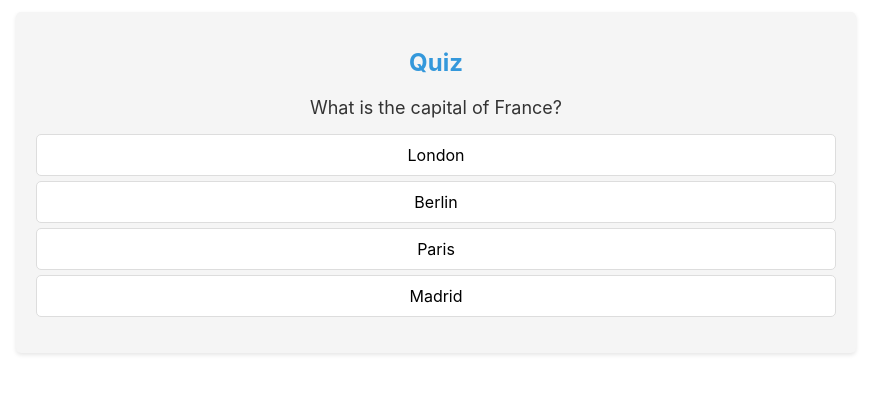
Test case: App › For first Question › when_user_chooses_the_option_correctly
The image size is (873, 419).
Answer the questions
What coordinates should you click on to do the following:
click the list item "Paris"
I would click on:
 (436, 249)
Its box is [36, 228, 836, 270].
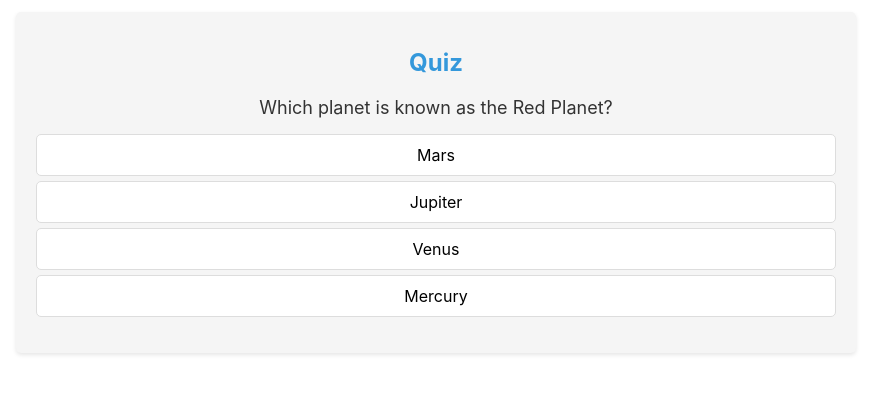
What coordinates should you click on to do the following:
click the list item "Mars"
I would click on:
 (436, 155)
Its box is [36, 134, 836, 176].
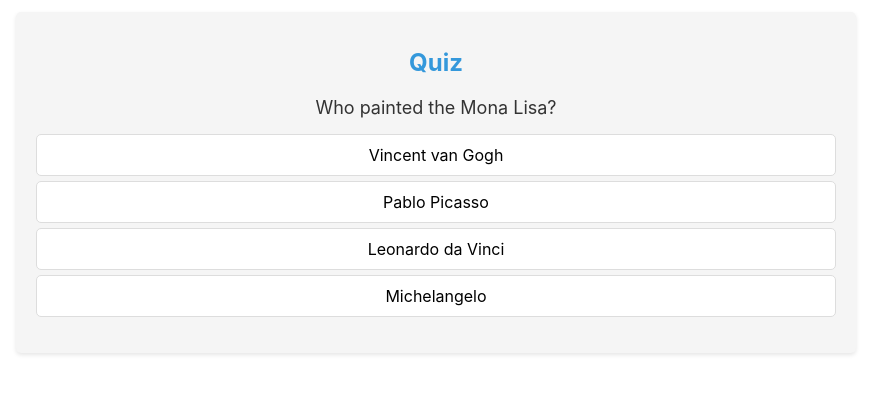
What coordinates should you click on to do the following:
click the list item "Leonardo da Vinci"
I would click on:
 (436, 249)
Its box is [36, 228, 836, 270].
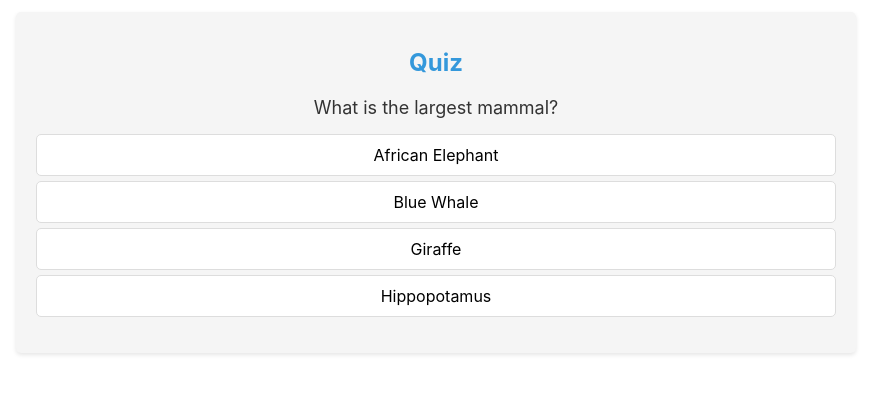
What coordinates should you click on to do the following:
click the list item "Blue Whale"
I would click on:
 (436, 202)
Its box is [36, 181, 836, 223].
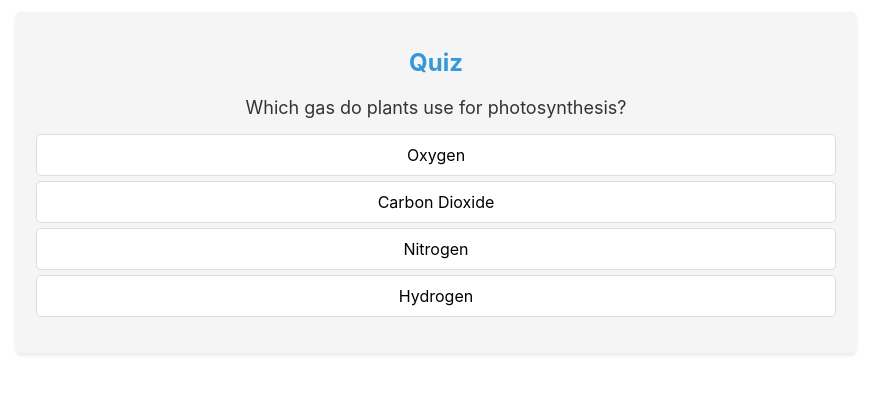
What coordinates should you click on to do the following:
click the list item "Carbon Dioxide"
I would click on:
 (436, 202)
Its box is [36, 181, 836, 223].
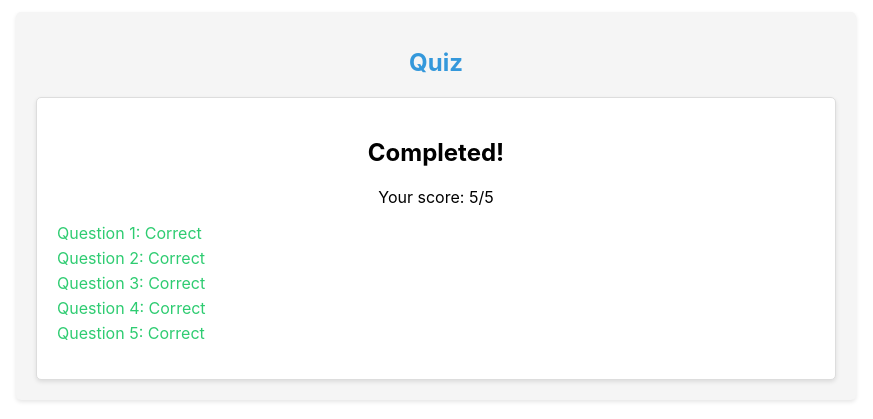
Expected: the heading "Completed!" is shown, [368, 138, 504, 167]
Expected: the text "Your score: 5/5" is shown, [378, 187, 494, 207]
Expected: the list item "Question 1: Correct" is shown, [57, 223, 202, 243]
